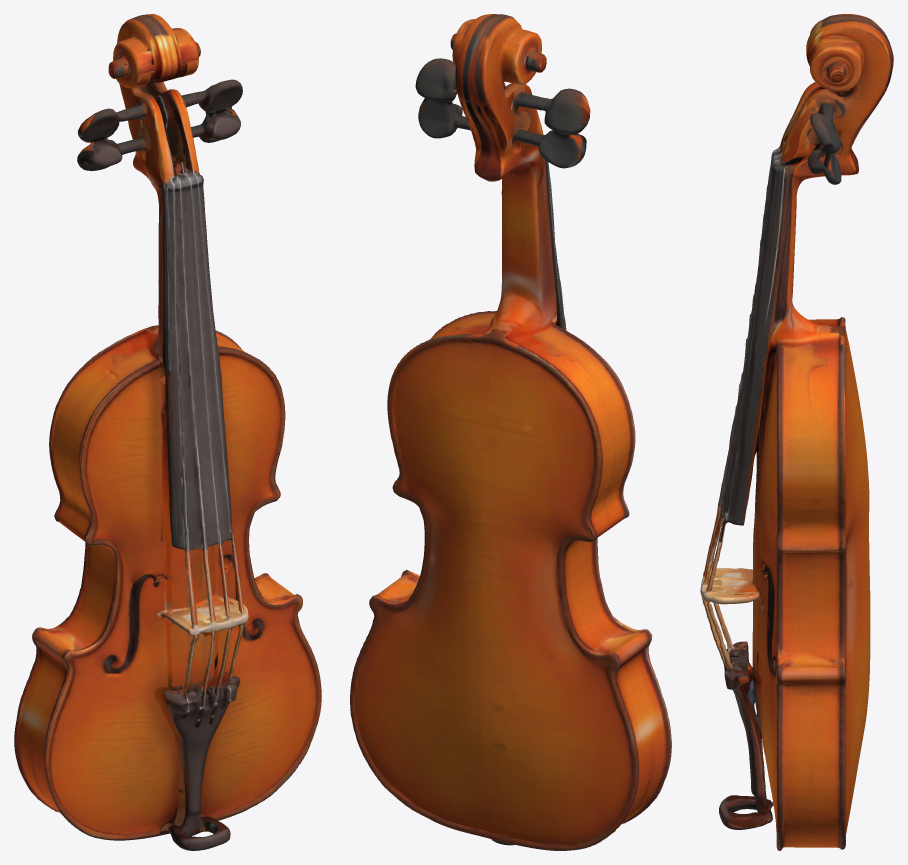
The model's file is Meshy_AI_violin_1011231109_texture.fbx.
3 renders of one model, left to right at view 1: azimuth 30°, elevation 25°; view 2: azimuth 150°, elevation 25°; view 3: azimuth 270°, elevation 25°, orthographic. The views are drawn at different scales.
Visible parts, largest first — view 1: Mesh_0; view 2: Mesh_0; view 3: Mesh_0.
Part boxes in pixels (x1,y1,x2,y2): Mesh_0: (14,14,321,850); Mesh_0: (350,14,671,850); Mesh_0: (700,14,893,850).
Size of the model in its own units: 72.57 by 200 by 43.
Materials: 1 (1 with a texture image).
